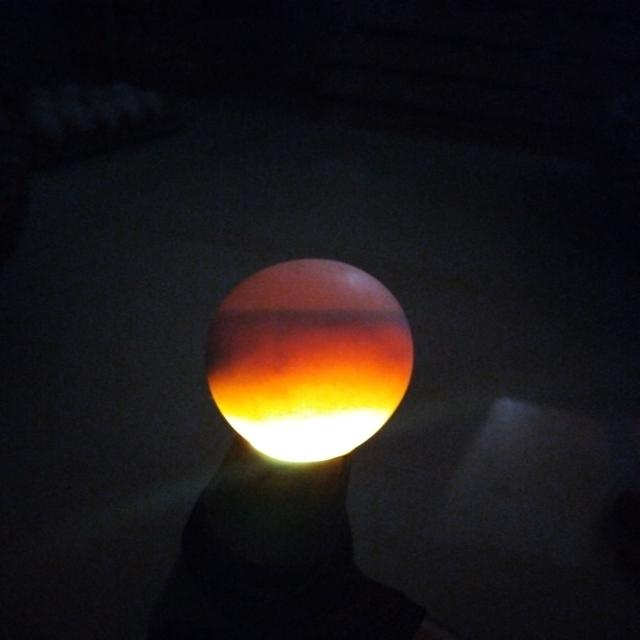Area Infectada: (205, 307, 415, 373)
